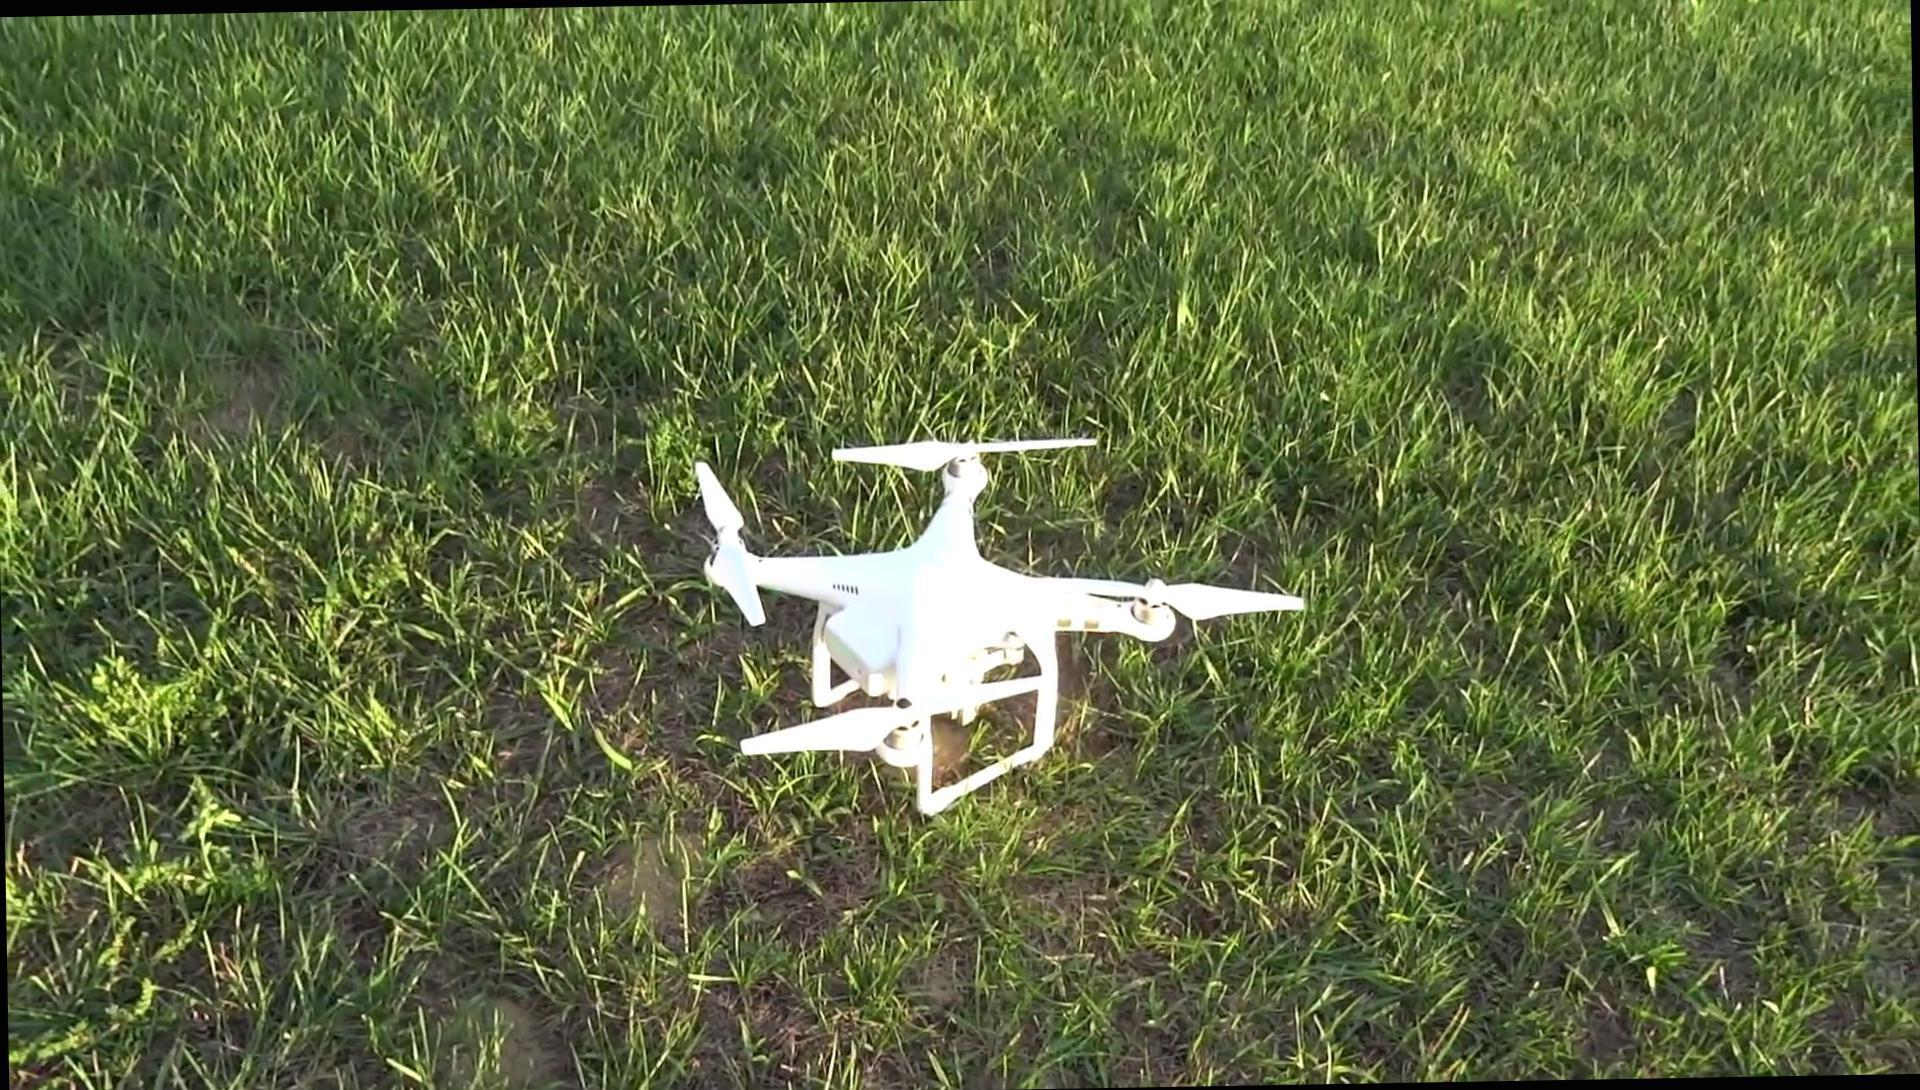drone: (687, 430, 1308, 822)
